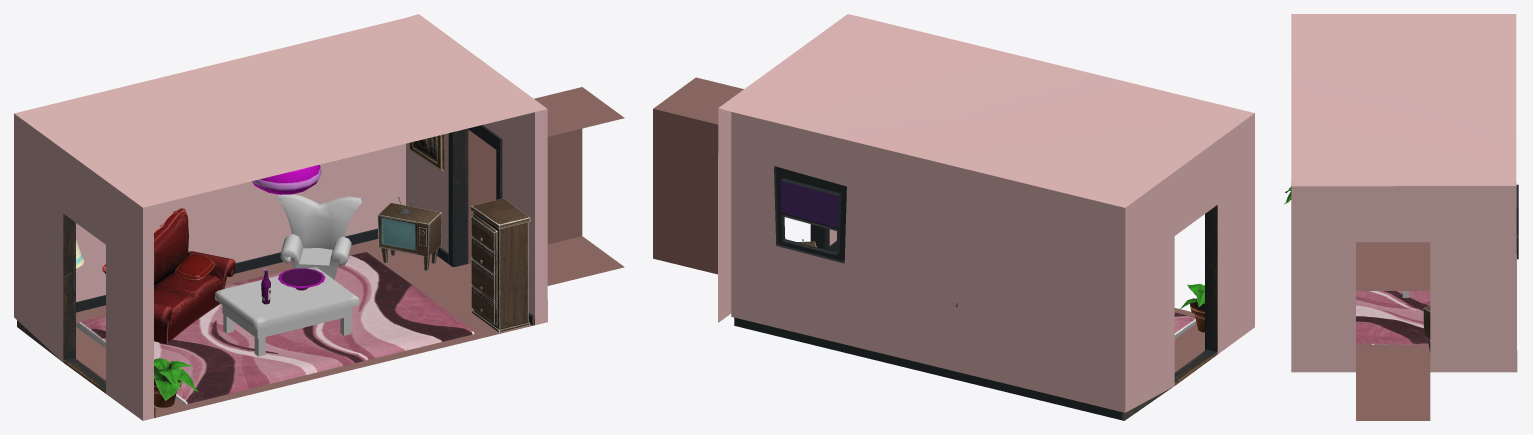
Rendered from room.fbx.
3 views of the same model, side by side, from view 1: azimuth 30°, elevation 25°; view 2: azimuth 150°, elevation 25°; view 3: azimuth 270°, elevation 25° (orthographic). The views are drawn at different scales.
Parts seen in each view (by area): view 1: Rooms_01_room, Rooms_01_carpet, Rooms_01_cabinet, Rooms_01_table, Rooms_01_sofa, Rooms_01_fotel, Rooms_01_tv, Rooms_01_flower, Rooms_01_luster, Rooms_01_paint4, Rooms_01_bowl, Rooms_01_pillow; view 2: Rooms_01_room, Rooms_01_window, Rooms_01_flower; view 3: Rooms_01_room, Rooms_01_carpet, Rooms_01_tv.
Boxes of the visible parts, x1,y1,x2,y2 form: Rooms_01_room: [14, 14, 624, 420]; Rooms_01_carpet: [76, 252, 475, 404]; Rooms_01_cabinet: [470, 198, 530, 332]; Rooms_01_table: [215, 267, 359, 356]; Rooms_01_sofa: [102, 208, 236, 344]; Rooms_01_fotel: [277, 194, 362, 279]; Rooms_01_tv: [377, 196, 441, 270]; Rooms_01_flower: [154, 358, 197, 407]; Rooms_01_luster: [252, 164, 321, 194]; Rooms_01_paint4: [409, 134, 444, 171]; Rooms_01_bowl: [278, 268, 325, 290]; Rooms_01_pillow: [175, 254, 215, 281]; Rooms_01_room: [653, 14, 1254, 420]; Rooms_01_window: [780, 180, 837, 227]; Rooms_01_flower: [1178, 283, 1204, 332]; Rooms_01_room: [1291, 14, 1518, 420]; Rooms_01_carpet: [1356, 291, 1430, 344]; Rooms_01_tv: [1423, 306, 1430, 351].
Size of the model in its own units: 3.41 by 1.35 by 1.53.
